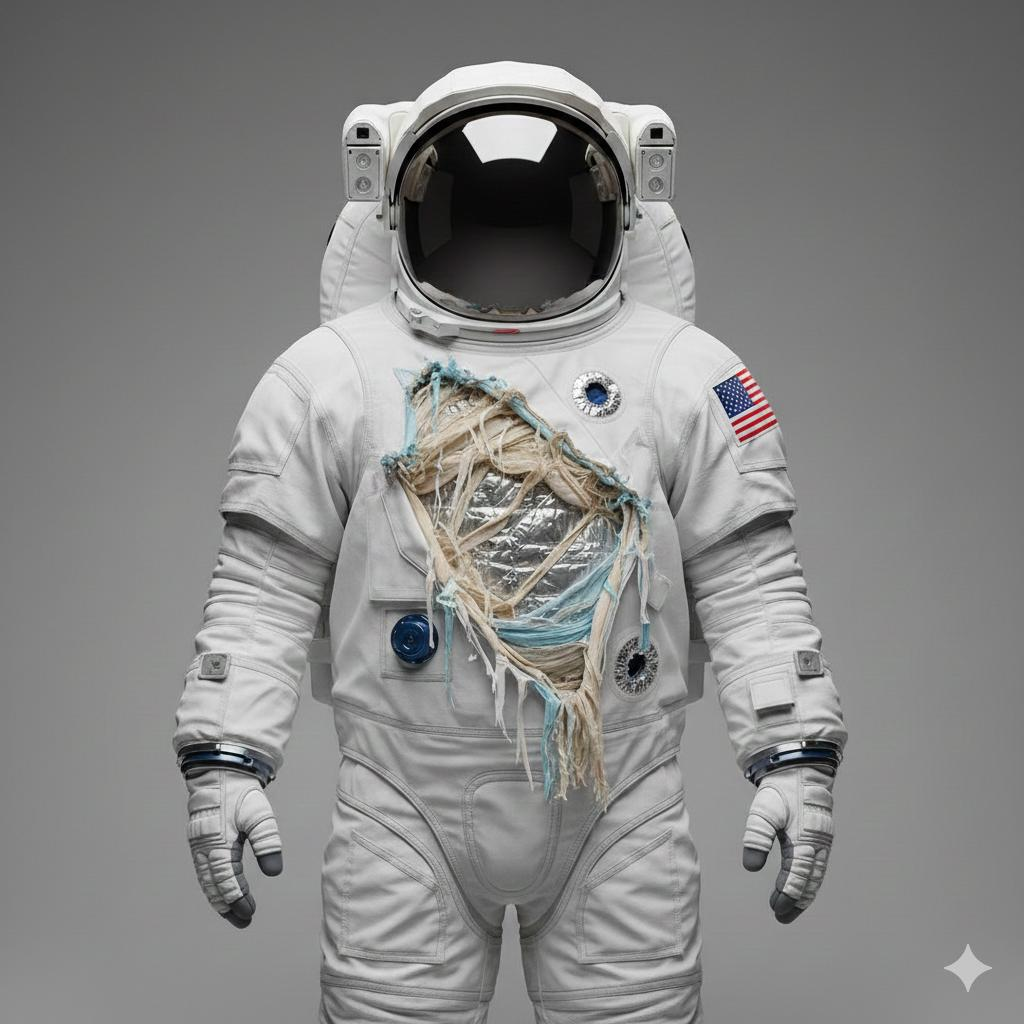puncture: (598, 603, 688, 737), (557, 363, 639, 427)
tear: (385, 361, 686, 777)
